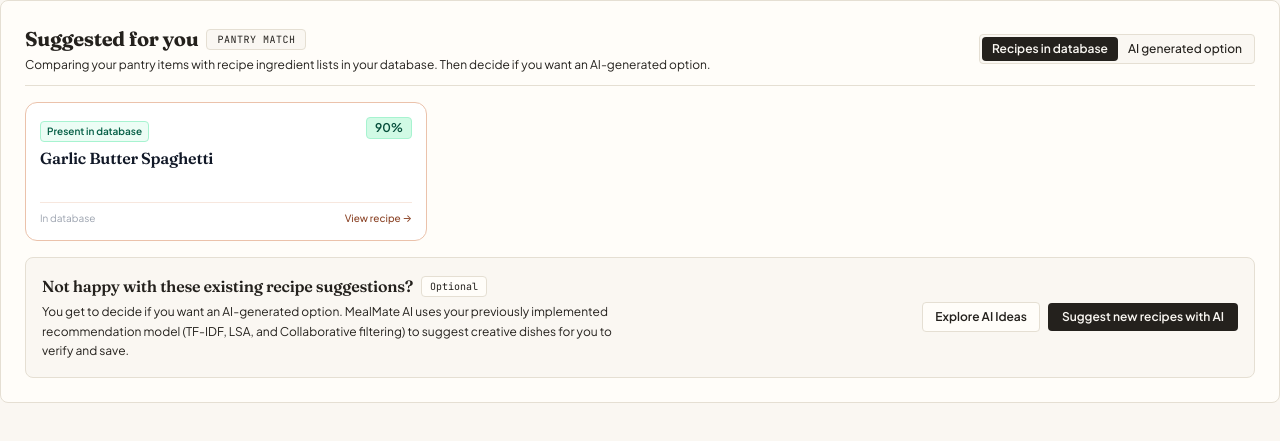
Test case: SuggestedRecipes & HomePage suggestions flow › allows the user to switch to AI generated option mode and explore dishes not in system
Click the button "AI generated option" at coordinates (1185, 49), box x1=1118 y1=37 x2=1252 y2=61
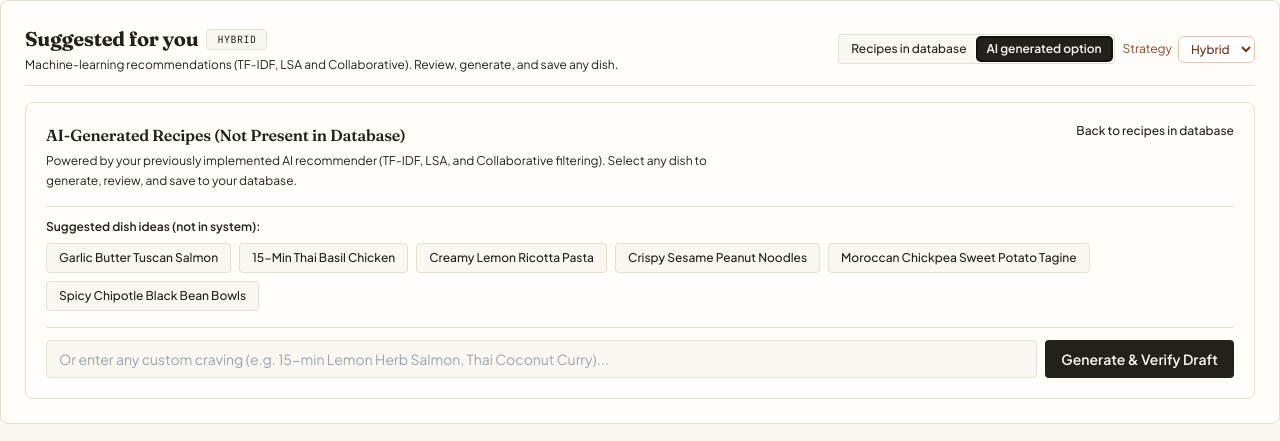
expect the heading "AI-Generated Recipes (Not Present in Database)" is shown: met, box x1=46 y1=123 x2=406 y2=147
expect the text "Garlic Butter Tuscan Salmon" is shown: met, box x1=59 y1=250 x2=218 y2=266
expect the text "15-Min Thai Basil Chicken" is shown: met, box x1=252 y1=250 x2=395 y2=266
